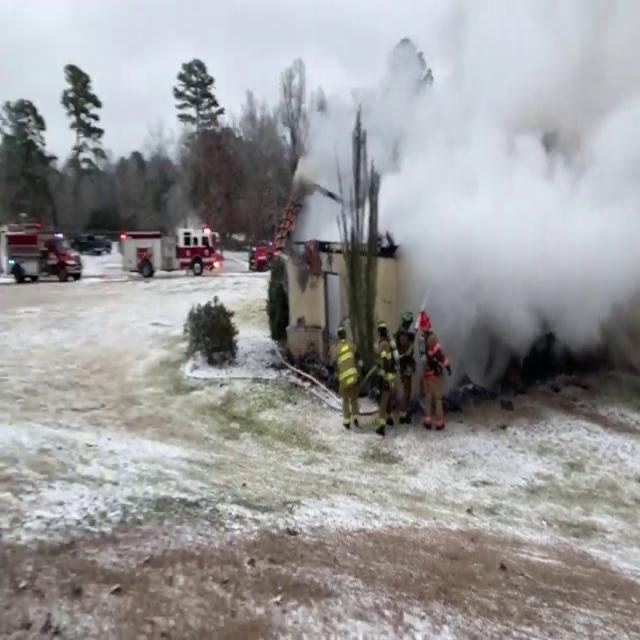Smoke: (383, 0, 640, 393), (280, 48, 392, 246)
